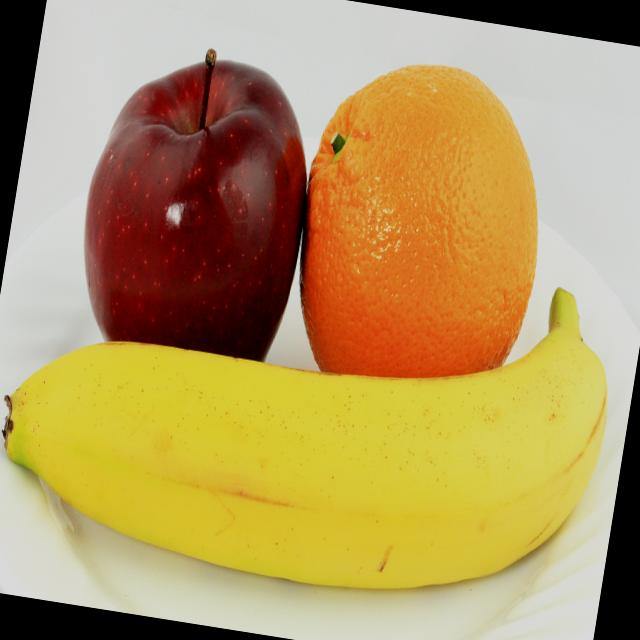apple: (64, 40, 340, 386)
banana: (0, 243, 617, 635)
orange: (261, 32, 578, 446)
